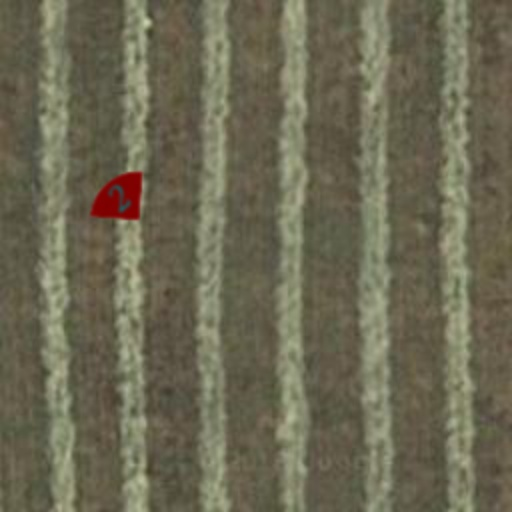quarter_circle: (72, 150, 168, 246)
